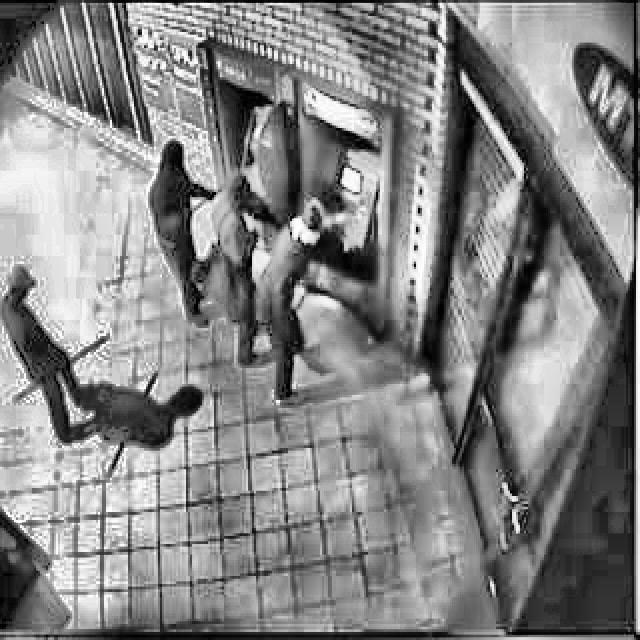burglary: (144, 76, 388, 408), (0, 259, 116, 448)
